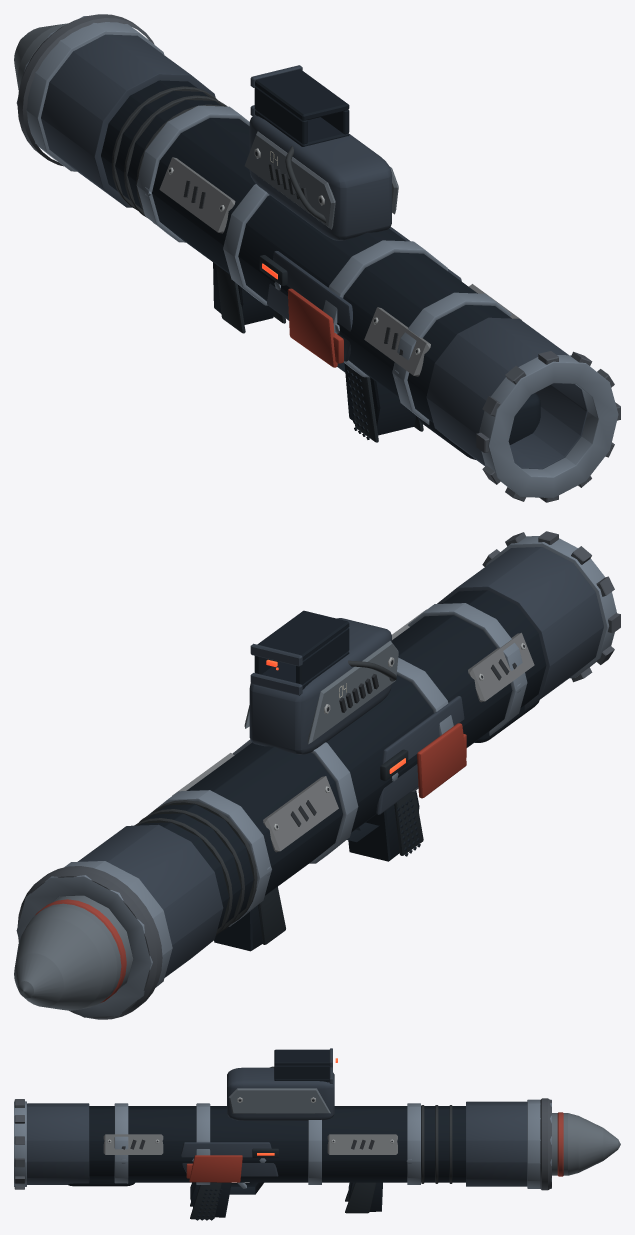
Rendered from bazooka.glb.
3 renders of one model, top to bottom at view 1: azimuth 30°, elevation 25°; view 2: azimuth 150°, elevation 25°; view 3: azimuth 270°, elevation 25°, orthographic. The views are drawn at different scales.
Parts seen in each view (by area): view 1: body, cap, mag; view 2: body, mag, cap; view 3: body, mag, cap.
Boxes of the visible parts, <box> form: body: <box>16,14,587,469</box>; cap: <box>476,351,620,502</box>; mag: <box>14,23,67,90</box>; body: <box>16,547,603,1019</box>; mag: <box>14,895,133,1010</box>; cap: <box>482,531,620,682</box>; body: <box>27,1048,551,1220</box>; mag: <box>552,1112,620,1176</box>; cap: <box>14,1099,26,1189</box>.
Bounding box in the file's own units: 0.262 × 0.4955 × 1.72.
